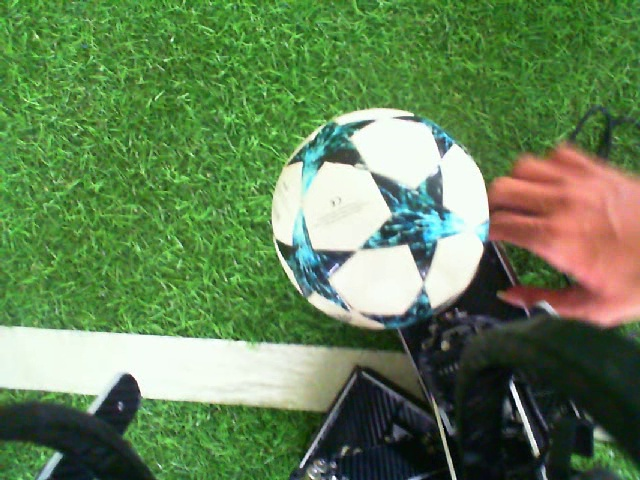ball: (269, 104, 493, 334)
